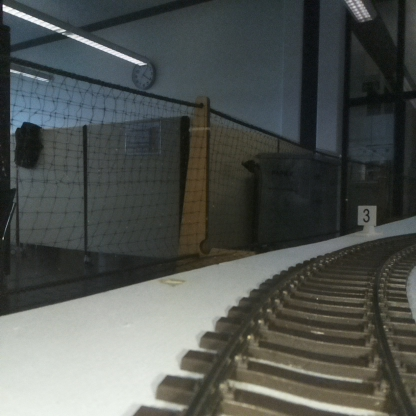white-stop-3: (357, 205, 376, 234)
